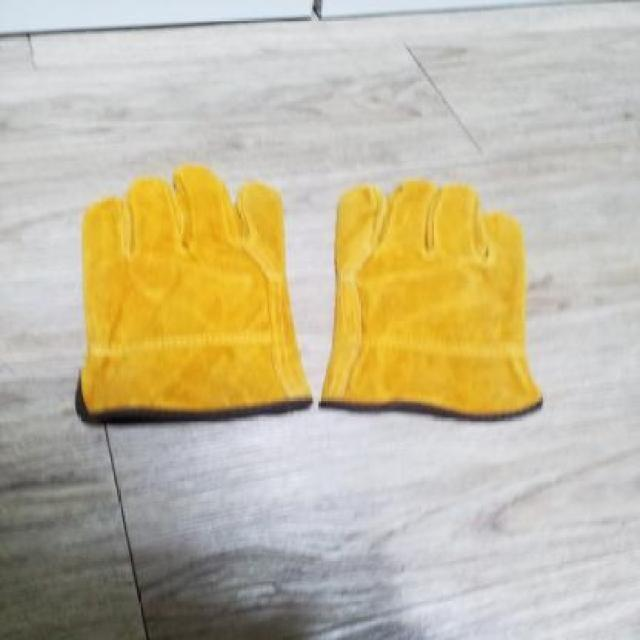glove: (75, 163, 313, 422), (318, 177, 543, 419)
